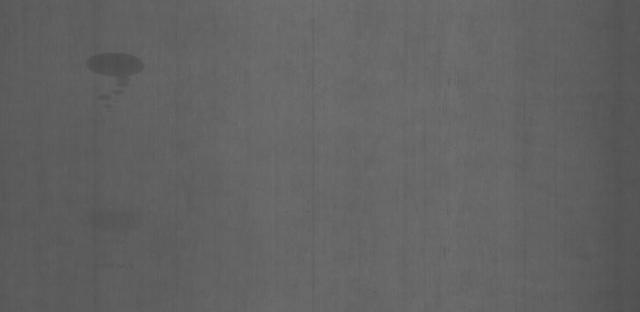oil_spot: (77, 38, 151, 109)
